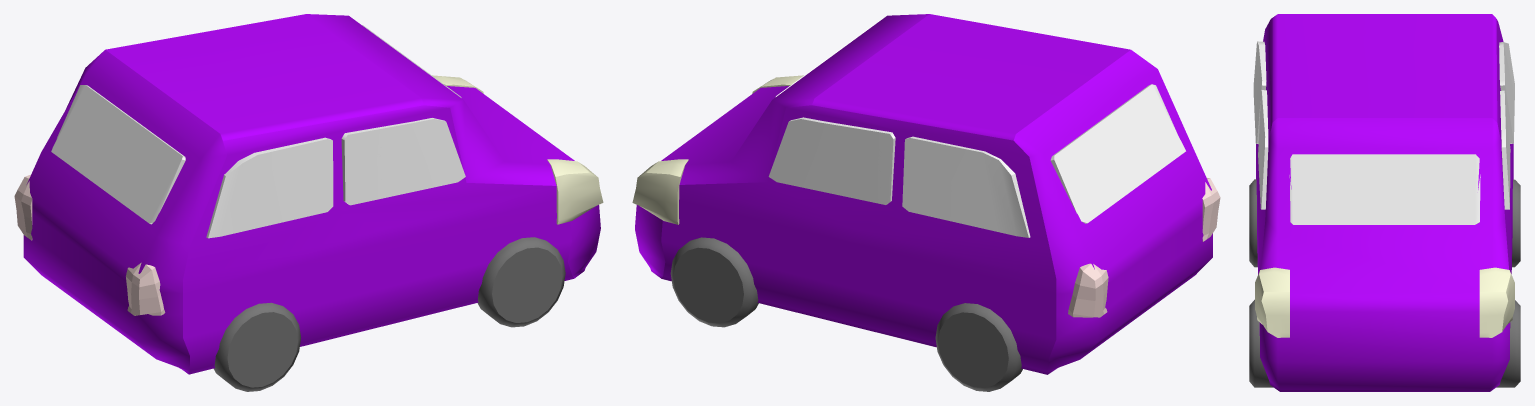
The model's file is CarroMorado.fbx.
The picture shows the model from 3 angles, left to right: view 1: azimuth 30°, elevation 25°; view 2: azimuth 150°, elevation 25°; view 3: azimuth 270°, elevation 25°; orthographic projection. The views are drawn at different scales.
Visible parts, largest first — view 1: pCube1, pCube10, pCube7, pCube8, pCylinder1, pCylinder2, pCube9, pCube11; view 2: pCube1, pCube10, pCube4, pCube3, pCylinder3, pCylinder4, pCube9, pCube11; view 3: pCube1, pCube6, pCube9, pCube4, pCylinder1, pCylinder3, pCube8, pCube3, pCube7, pCylinder4, pCylinder2.
Part boxes in pixels (x1,y1,x2,y2): pCube1: (23,14,600,374); pCube10: (51,85,185,224); pCube7: (206,137,333,238); pCube8: (341,118,465,205); pCylinder1: (477,237,565,327); pCylinder2: (213,302,300,391); pCube9: (432,75,603,224); pCube11: (14,175,165,315); pCube1: (635,14,1212,374); pCube10: (1050,84,1185,223); pCube4: (902,136,1030,237); pCube3: (768,117,895,204); pCylinder3: (670,237,758,327); pCylinder4: (935,303,1022,391); pCube9: (632,75,803,224); pCube11: (1068,178,1220,317); pCube1: (1256,14,1513,391); pCube6: (1289,154,1480,224); pCube9: (1255,267,1514,337); pCube4: (1499,42,1514,143); pCylinder1: (1249,299,1273,387); pCylinder3: (1496,300,1520,387); pCube8: (1258,90,1268,209); pCube3: (1500,90,1510,209); pCube7: (1253,41,1266,143); pCylinder4: (1512,179,1520,267); pCylinder2: (1249,179,1257,267).
Size of the model in its own units: 20.49 by 10.7 by 11.09.
